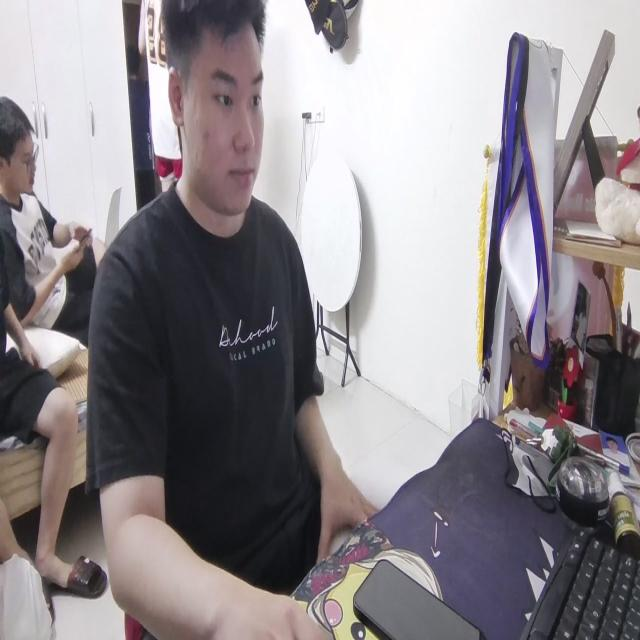extra_person: (0, 100, 101, 442)
phone: (351, 552, 483, 640)
student: (94, 0, 372, 640)
